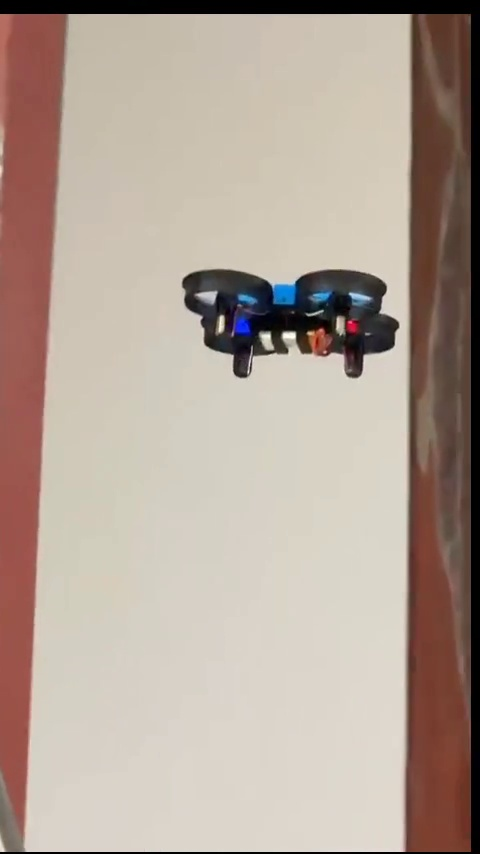drone: (179, 267, 403, 375)
